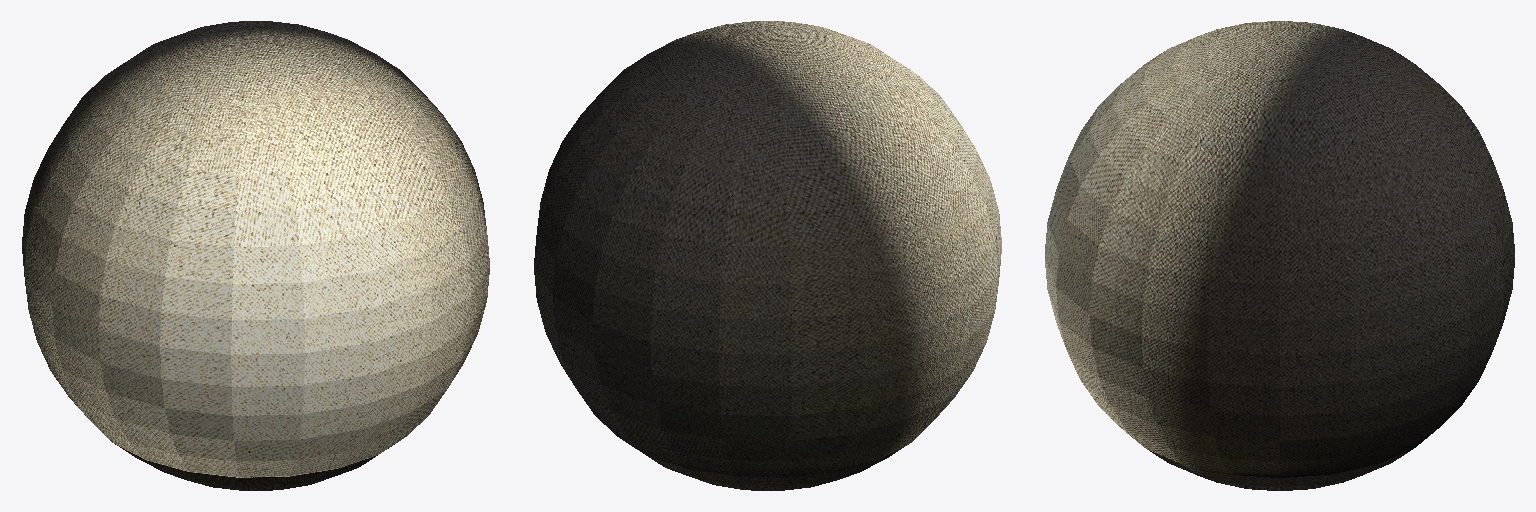
3 views of the same model, side by side, from view 1: azimuth 30°, elevation 25°; view 2: azimuth 150°, elevation 25°; view 3: azimuth 270°, elevation 25° (orthographic).
Visible parts, largest first — view 1: ball2; view 2: ball2; view 3: ball2.
Part boxes in pixels (x1,y1,x2,y2): ball2: (22, 21, 489, 490); ball2: (534, 21, 1001, 490); ball2: (1045, 21, 1514, 490).
Size of the model in its own units: 3.58 by 3.58 by 3.58.
Materials: 1 (1 with a texture image).